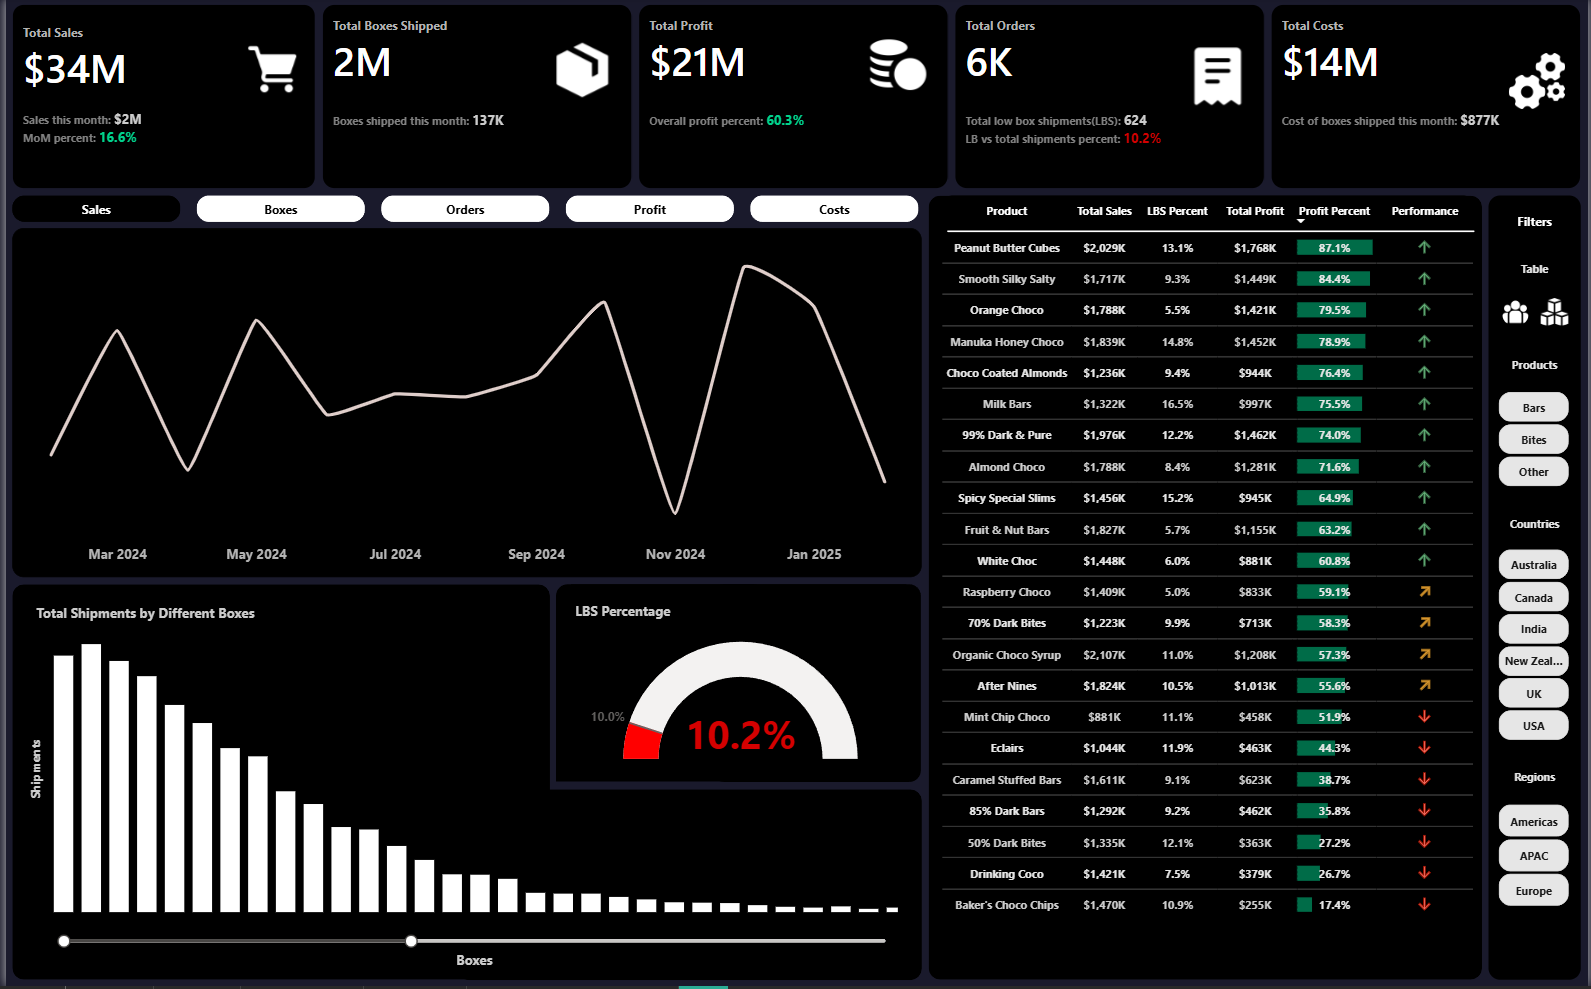

This screenshot's page, from the dashboard's own definition file:
{"tool":"powerbi","page":{"name":"Duplicate of Dashboard","canvas":[1920,1200],"ordinal":4},"visuals":[{"type":"cardVisual","fields":{"Data":["table measures.Total Sales"]},"box":[8,8.1,368,224],"z":0,"group":"g5"},{"type":"cardVisual","fields":{"Data":["table measures.Total Boxes"]},"box":[384,8.1,376,224],"z":0,"group":"g3"},{"type":"group","id":"g1","title":"Group 2","box":[768,8.1,376,224],"z":0,"group":"g10"},{"type":"cardVisual","fields":{"Data":["table measures.Total Profit"]},"box":[768,8.1,376,224],"z":0,"group":"g1"},{"type":"cardVisual","fields":{"Data":["table measures.Total Shipments"]},"box":[1152,8.1,376,224],"z":0,"group":"g6"},{"type":"shape","box":[1120,240,672,952],"z":0},{"type":"tableEx","fields":{"Values":["products.Product","table measures.Total Sales","table measures.LBS Percent","table measures.Total Profit","table measures.Profit Percent","table measures.Profit Target Indicator"]},"box":[1134.6,240.1,648,896],"z":0,"group":"g7"},{"type":"lineChart","title":"Total Boxes","fields":{"Y":["table measures.Total Sales"],"Category":["calendar.Start of Month"]},"box":[8,280,1104,424],"z":0,"group":"g4"},{"type":"group","id":"g2","title":"Group 5","box":[668.8,712,443.2,240],"z":0,"group":"g14"},{"type":"shape","box":[668.8,736.8,425.1,215.2],"z":0,"group":"g2"},{"type":"group","id":"g3","title":"Group 7","box":[384,8.1,376,224],"z":1000,"group":"g10"},{"type":"image","box":[1037.7,47.1,89.9,68.2],"z":1000,"group":"g1"},{"type":"image","box":[653.3,54.9,94,65.6],"z":1000,"group":"g3"},{"type":"image","box":[272,56.8,104,58.4],"z":1000,"group":"g5"},{"type":"group","id":"g4","title":"Group 3","box":[8,240,1104,464],"z":1000},{"type":"advancedSlicerVisual","fields":{"Values":["Measure Selector.Measure Selector"]},"box":[8,240,1104,32],"z":1000,"group":"g4"},{"type":"shape","box":[1142.6,280.1,640,8],"z":1000,"group":"g7"},{"type":"shape","box":[668.8,712,253.3,231.7],"z":1000,"group":"g2"},{"type":"gauge","fields":{"Y":["table measures.LBS Percent"]},"box":[701,761.7,354.6,182.1],"z":1000,"group":"g14"},{"type":"shape","box":[547.9,960.3,564.1,231.7],"z":1000,"group":"g13"},{"type":"group","id":"g5","title":"Group 1","box":[8,8.1,368,224],"z":2000,"group":"g10"},{"type":"cardVisual","fields":{"Data":["table measures.Total Costs"]},"box":[1536,8.1,376,224],"z":2000,"group":"g8"},{"type":"shape","box":[8,712,652.7,480],"z":2000,"group":"g13"},{"type":"shape","box":[686.9,712,407,215.2],"z":2000,"group":"g2"},{"type":"textbox","box":[684.9,728.6,128.9,33.1],"z":2000,"group":"g14"},{"type":"columnChart","title":"Shipments by Boxes","fields":{"Category":["shipments.Boxes (bins)"],"Y":["table measures.Total Shipments"]},"box":[24.1,746.8,1063.7,430.3],"z":2000,"group":"g12"},{"type":"image","box":[1024,749.6,80,48],"z":2000},{"type":"group","id":"g6","title":"Group 10","box":[1152,8.1,376,224],"z":3000,"group":"g10"},{"type":"image","box":[1813.9,66.5,89.9,68.2],"z":3000,"group":"g8"},{"type":"group","id":"g7","title":"Products Table","box":[1134.6,240.1,648,896],"z":3000},{"type":"shape","box":[858.7,712,253.3,240],"z":3000,"group":"g2"},{"type":"textbox","box":[24.1,730.2,290.1,33.1],"z":3000,"group":"g12"},{"type":"group","id":"g8","title":"Group 11","box":[1536,8.1,376,224],"z":4000,"group":"g10"},{"type":"group","id":"g9","title":"Group 9","box":[8,712,1104,480],"z":4000},{"type":"group","id":"g10","title":"Group 12","box":[8,8.1,1904,224],"z":6000},{"type":"image","title":"Sales Persons Filter Icon","box":[1816,364,32,33.4],"z":6000,"group":"g15"},{"type":"image","title":"Products Filter Icon","box":[1856,364,48,33.4],"z":7000,"group":"g15"},{"type":"group","id":"g11","title":"Group 15","box":[1800,240,112,952],"z":8000},{"type":"advancedSlicerVisual","title":"Product Type","fields":{"Values":["products.Category"]},"box":[1808,472.6,96,125.3],"z":12000,"group":"g15"},{"type":"group","id":"g12","title":"Group 6","box":[24.1,730.2,1063.7,446.9],"z":12000,"group":"g13"},{"type":"group","id":"g13","title":"Group 8","box":[8,712,1104,480],"z":12001,"group":"g9"},{"type":"shape","box":[1800,240,112,952],"z":12500,"group":"g11"},{"type":"group","id":"g14","title":"Group 4","box":[668.8,712,443.2,240],"z":12501,"group":"g9"},{"type":"textbox","box":[1800,430.8,112,33.4],"z":13000,"group":"g15"},{"type":"textbox","box":[1800,256.7,112,33.4],"z":14000,"group":"g11"},{"type":"textbox","box":[1800,313.9,112,33.4],"z":14000,"group":"g15"},{"type":"image","box":[1421.7,56.8,98.1,77.9],"z":15000,"group":"g6"},{"type":"textbox","box":[1800,622.9,112,33.4],"z":15000,"group":"g15"},{"type":"advancedSlicerVisual","title":"Product Type","fields":{"Values":["locations.Geo"]},"box":[1808,664.6,96,242.2],"z":16000,"group":"g15"},{"type":"advancedSlicerVisual","title":"Product Type","fields":{"Values":["locations.Region"]},"box":[1808,973.6,96,133.6],"z":17000,"group":"g15"},{"type":"textbox","box":[1800,931.9,112,33.4],"z":18000,"group":"g15"},{"type":"group","id":"g15","title":"Group 14","box":[1800,313.9,112,793.3],"z":18002,"group":"g11"}]}

Visuals, with their boxes in screenshot pixels (x1, y1, x2, y2), scaled from the page's 1920x1200 canvas onto the 1591x989 screenshot:
cardVisual - table measures.Total Sales: <box>7,7,312,191</box>
cardVisual - table measures.Total Boxes: <box>318,7,630,191</box>
"Group 2" group: <box>636,7,948,191</box>
cardVisual - table measures.Total Profit: <box>636,7,948,191</box>
cardVisual - table measures.Total Shipments: <box>955,7,1266,191</box>
shape: <box>928,198,1485,982</box>
tableEx - products.Product x table measures.Total Sales: <box>940,198,1477,936</box>
"Total Boxes" lineChart: <box>7,231,921,580</box>
"Group 5" group: <box>554,587,921,785</box>
shape: <box>554,607,906,785</box>
"Group 7" group: <box>318,7,630,191</box>
image: <box>860,39,934,95</box>
image: <box>541,45,619,99</box>
image: <box>225,47,312,95</box>
"Group 3" group: <box>7,198,921,580</box>
advancedSlicerVisual - Measure Selector.Measure Selector: <box>7,198,921,224</box>
shape: <box>947,231,1477,237</box>
shape: <box>554,587,764,778</box>
gauge - table measures.LBS Percent: <box>581,628,875,778</box>
shape: <box>454,791,921,982</box>
"Group 1" group: <box>7,7,312,191</box>
cardVisual - table measures.Total Costs: <box>1273,7,1584,191</box>
shape: <box>7,587,547,982</box>
shape: <box>569,587,906,764</box>
textbox: <box>568,600,674,628</box>
"Shipments by Boxes" columnChart: <box>20,615,901,970</box>
image: <box>849,618,915,657</box>
"Group 10" group: <box>955,7,1266,191</box>
image: <box>1503,55,1578,111</box>
"Products Table" group: <box>940,198,1477,936</box>
shape: <box>712,587,921,785</box>
textbox: <box>20,602,260,629</box>
"Group 11" group: <box>1273,7,1584,191</box>
"Group 9" group: <box>7,587,921,982</box>
"Group 12" group: <box>7,7,1584,191</box>
"Sales Persons Filter Icon" image: <box>1505,300,1531,328</box>
"Products Filter Icon" image: <box>1538,300,1578,328</box>
"Group 15" group: <box>1492,198,1584,982</box>
"Product Type" advancedSlicerVisual: <box>1498,390,1578,493</box>
"Group 6" group: <box>20,602,901,970</box>
"Group 8" group: <box>7,587,921,982</box>
shape: <box>1492,198,1584,982</box>
"Group 4" group: <box>554,587,921,785</box>
textbox: <box>1492,355,1584,383</box>
textbox: <box>1492,212,1584,239</box>
textbox: <box>1492,259,1584,286</box>
image: <box>1178,47,1259,111</box>
textbox: <box>1492,513,1584,541</box>
"Product Type" advancedSlicerVisual: <box>1498,548,1578,747</box>
"Product Type" advancedSlicerVisual: <box>1498,802,1578,913</box>
textbox: <box>1492,768,1584,796</box>
"Group 14" group: <box>1492,259,1584,913</box>
